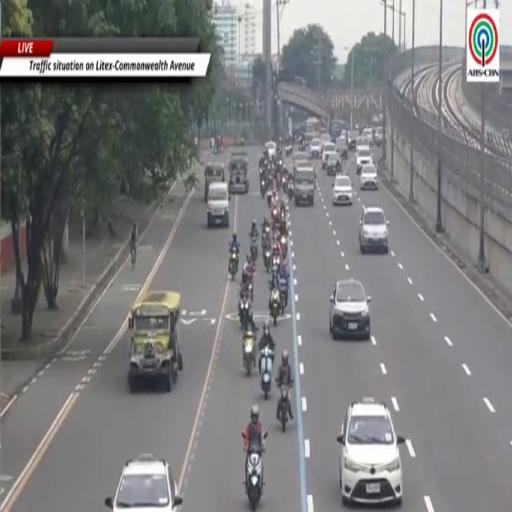bus: (330, 119, 348, 139), (305, 118, 320, 133)
car: (337, 397, 405, 506), (105, 455, 182, 511), (330, 280, 371, 340), (360, 206, 389, 253), (207, 182, 230, 228), (294, 164, 315, 205), (333, 174, 353, 204), (356, 147, 373, 174), (360, 164, 378, 189), (322, 152, 341, 175), (336, 136, 348, 158), (309, 138, 321, 158), (348, 131, 359, 150), (362, 128, 374, 145), (356, 136, 369, 151), (322, 141, 335, 156), (265, 141, 276, 157), (375, 126, 383, 146), (321, 134, 331, 142)
jeepney: (128, 292, 182, 392), (229, 153, 249, 194), (204, 163, 225, 202)
motorcycle: (246, 444, 264, 510), (260, 346, 274, 399), (278, 383, 291, 431), (243, 331, 255, 376), (239, 296, 251, 331), (270, 290, 281, 326), (229, 251, 238, 280), (250, 237, 258, 262), (263, 248, 271, 273), (280, 291, 287, 315), (280, 235, 287, 258), (271, 255, 281, 271), (271, 207, 279, 222), (287, 182, 293, 199), (261, 178, 266, 198), (267, 189, 272, 207), (282, 173, 287, 190), (286, 144, 292, 156), (240, 137, 244, 146)
